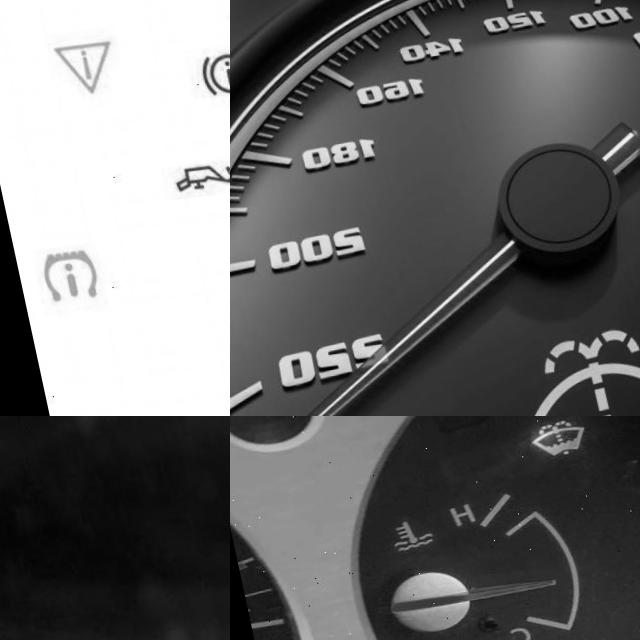Washer Fluid: (494, 333, 640, 416), (512, 423, 578, 473)
